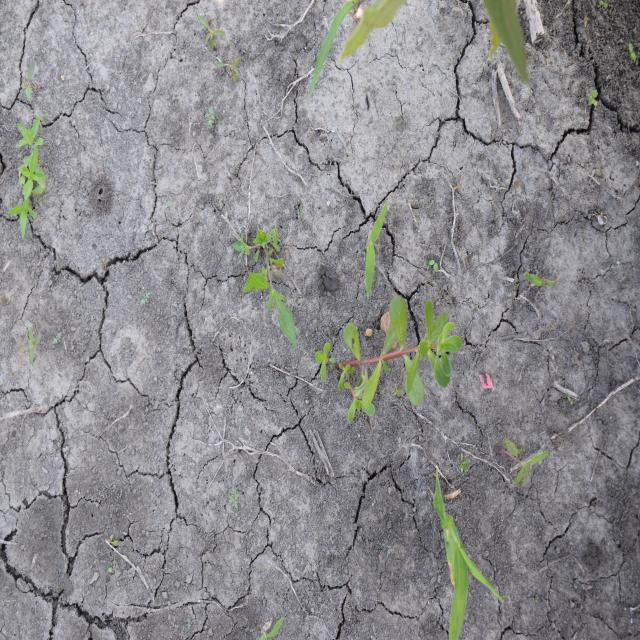Eclipta: (229, 226, 299, 350), (7, 113, 50, 242)
Purslane: (314, 294, 464, 426)
Waterhemp: (501, 436, 551, 491)
